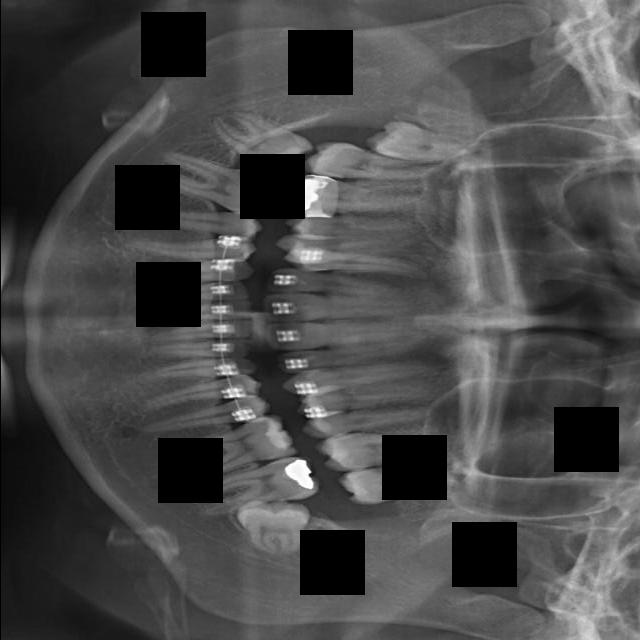3M ESPE Implant: (363, 120, 466, 166)
AGS Medikal Implant: (242, 490, 243, 490)
AMerOss Implant: (160, 410, 292, 489)
Amalgam filling: (305, 139, 431, 188)
Anthogyr Implant: (138, 398, 269, 434)
Bicon Implant: (151, 376, 255, 411)
BioHorizons Implant: (132, 359, 244, 381)
BioLife Implant: (143, 341, 239, 361)
Biomet 3i Implant: (134, 320, 246, 344)
Blue Sky Bio Implant: (131, 301, 245, 321)
Camlog Implant: (143, 282, 251, 301)
Caries: (275, 335, 420, 376)
Composite filling: (142, 257, 244, 286)
Cowellmedi Implant: (128, 238, 246, 258)
Crown: (144, 202, 258, 239)
DENTSPLY Implant: (290, 175, 410, 227)
Dentatus Implant: (146, 149, 271, 216)
Dentis Implant: (202, 90, 309, 185)
Euroteknika Implant: (296, 216, 407, 237)
Filling: (278, 235, 412, 252)
Frontier Implant: (278, 245, 403, 272)
Hiossen Implant: (284, 358, 429, 399)
Implant: (270, 292, 396, 321)
Implant Direct: (263, 268, 406, 300)
Keystone Dental Implant: (268, 319, 412, 350)
MIS Implant: (302, 373, 440, 421)
Mandible: (311, 399, 435, 438)
Maxilla: (405, 452, 406, 453)
Megagen Implant: (342, 468, 454, 504)
Neoss Implant: (233, 503, 307, 557)
